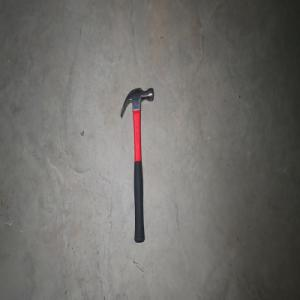Hammer: (119, 87, 154, 243)
